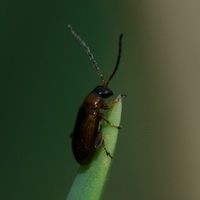insect: (68, 24, 122, 164)
